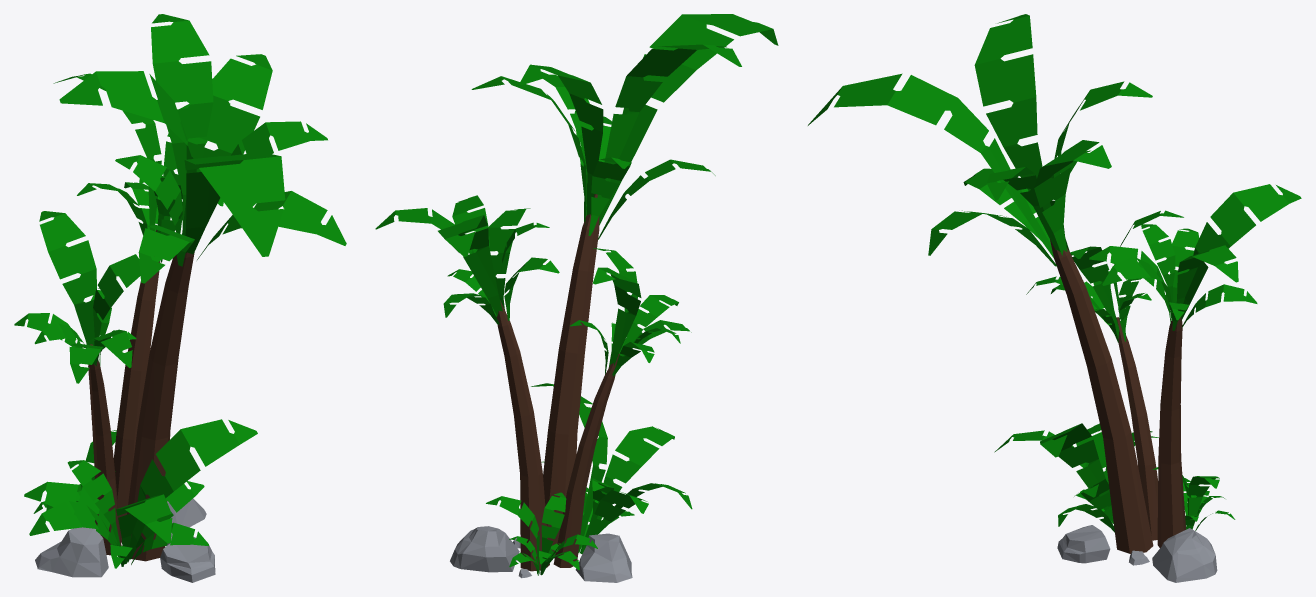
Rendered from SM_Light_Tree_With_Rocks.fbx.
3 renders of one model, left to right at view 1: azimuth 30°, elevation 25°; view 2: azimuth 150°, elevation 25°; view 3: azimuth 270°, elevation 25°, orthographic. The views are drawn at different scales.
Visible parts, largest first — view 1: SM_Light_Tree_With_Rocks; view 2: SM_Light_Tree_With_Rocks; view 3: SM_Light_Tree_With_Rocks.
Part boxes in pixels (x1,y1,x2,y2): SM_Light_Tree_With_Rocks: (14,14,346,582); SM_Light_Tree_With_Rocks: (375,14,778,582); SM_Light_Tree_With_Rocks: (808,14,1301,582).
Bounding box in the file's own units: 133 × 244 × 224.
